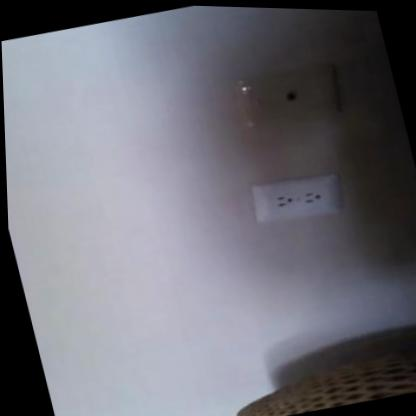OUTLET: (248, 168, 348, 228)
